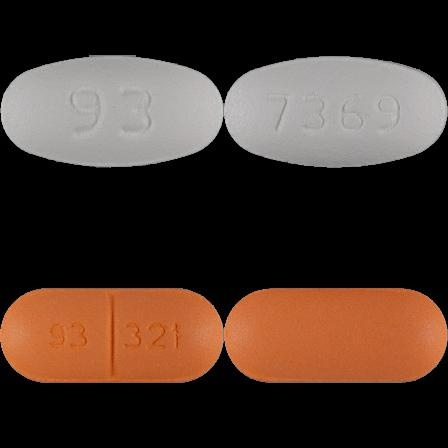33261-950: (0, 0, 224, 224)
